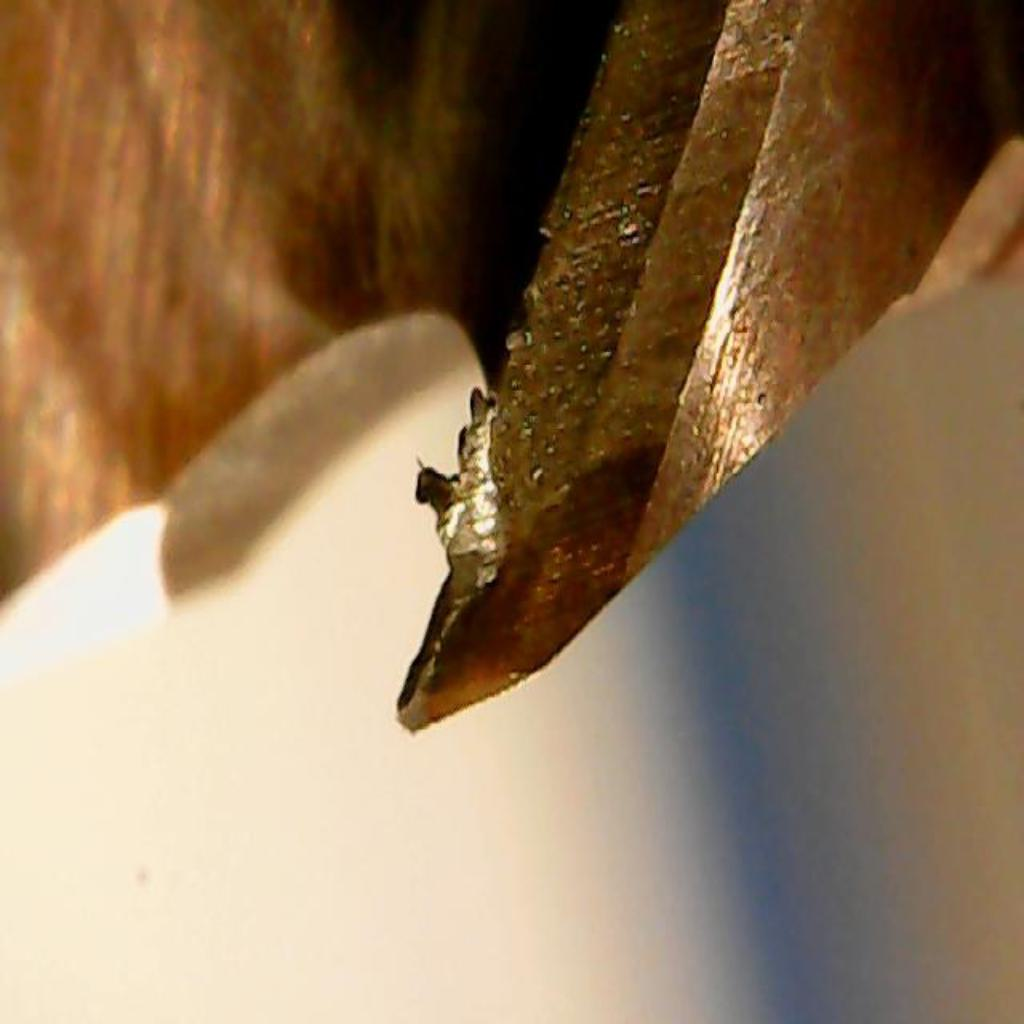Tool-wear-class-2: (383, 355, 687, 739)
